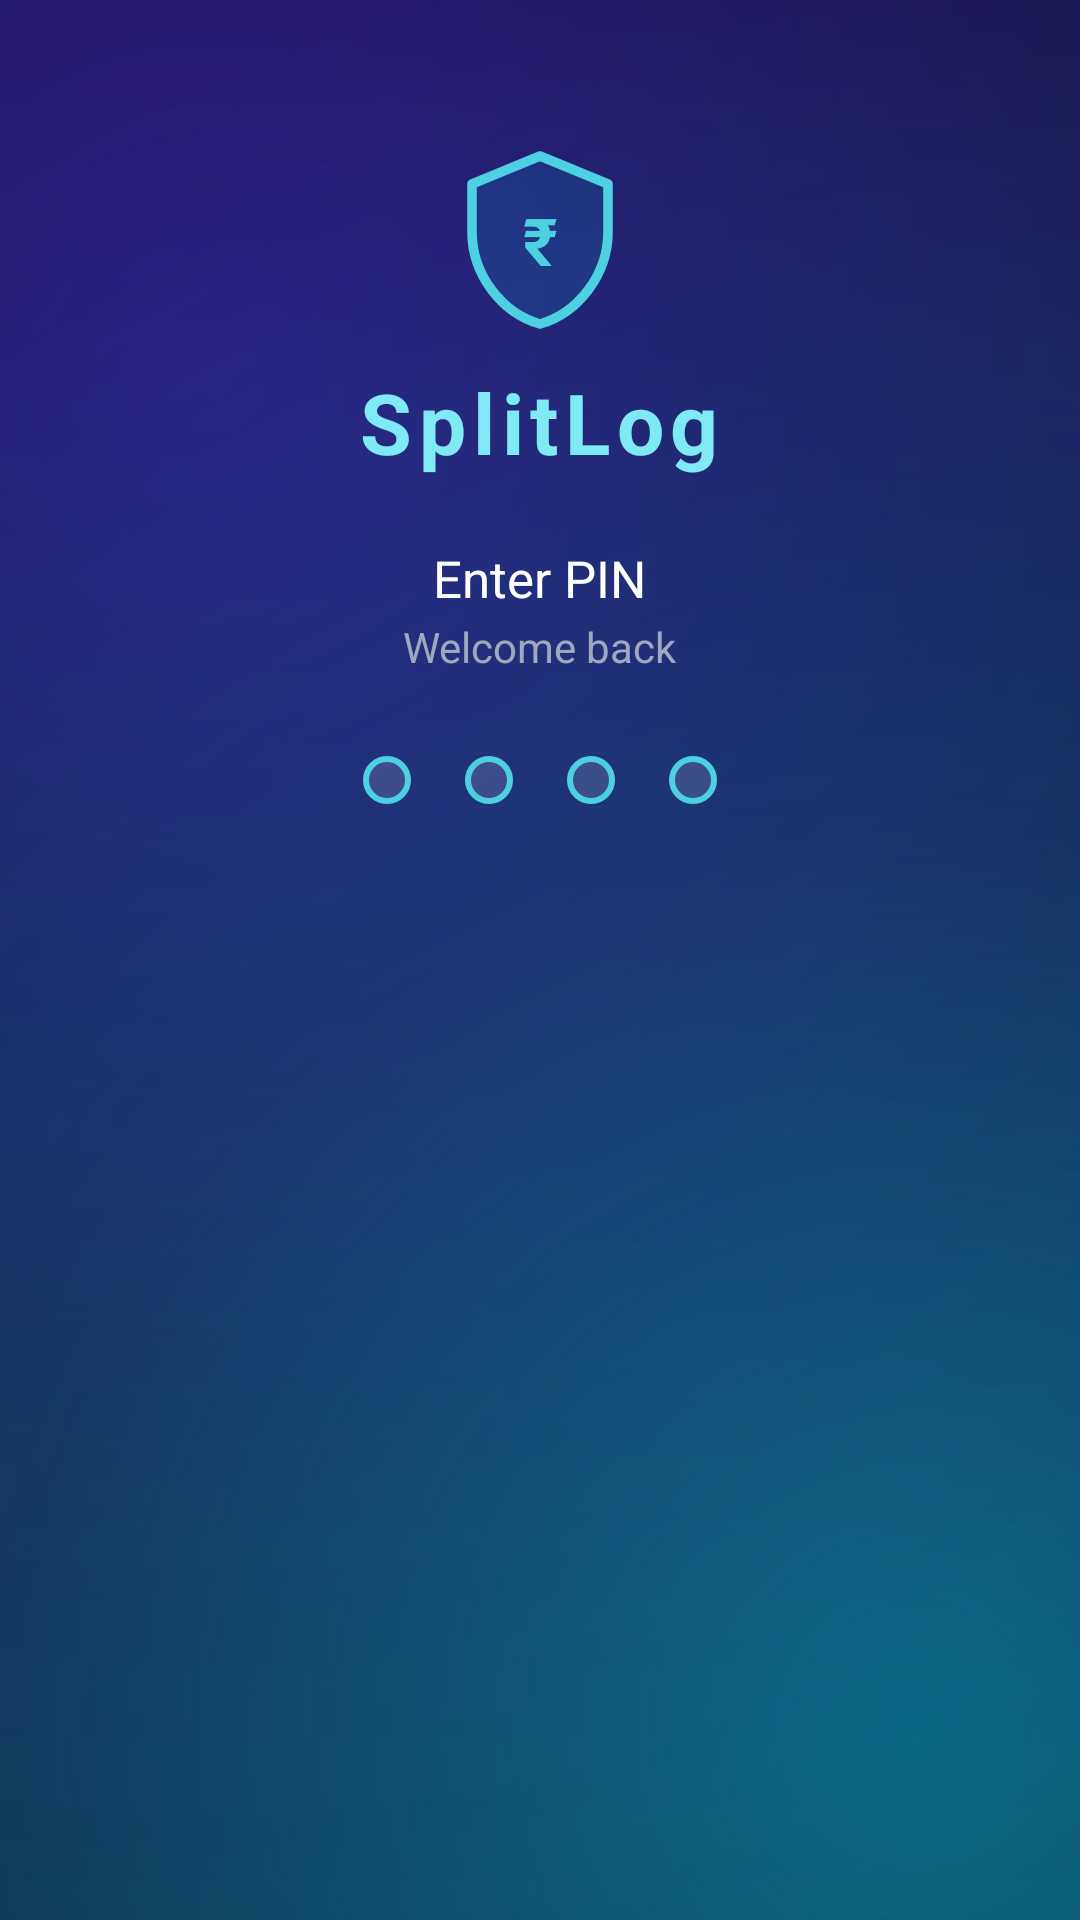

Named icons in this screenshot (1080px x 1920px) and their centers, (x,y):
shield: (540,240)
